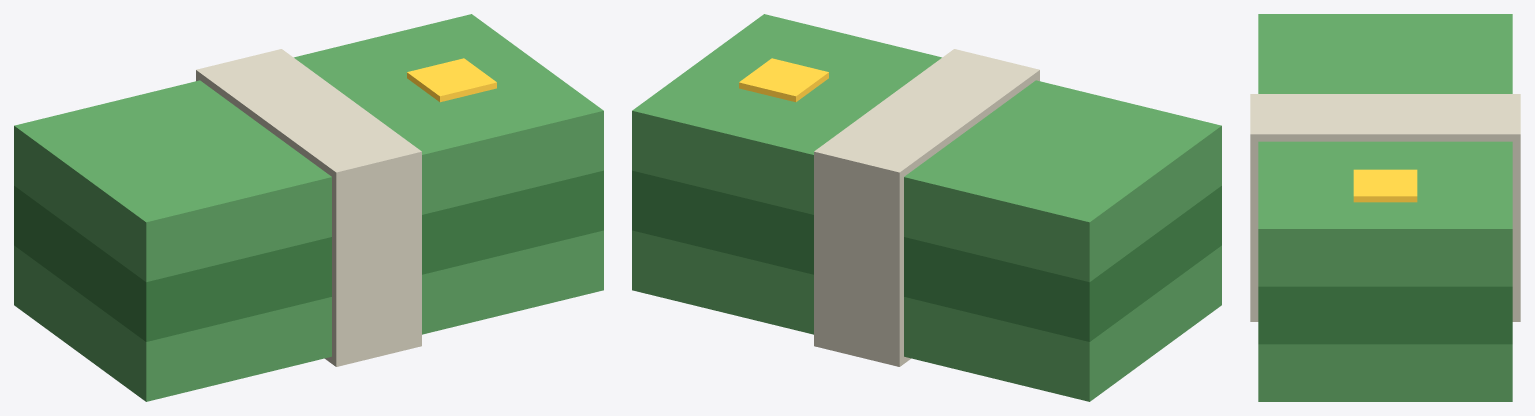
The model's file is cash_bundle.glb.
3 renders of one model, left to right at view 1: azimuth 30°, elevation 25°; view 2: azimuth 150°, elevation 25°; view 3: azimuth 270°, elevation 25°, orthographic. The views are drawn at different scales.
Visible parts, largest first — view 1: cash_bills, cash_band, cash_bills_edge, cash_gold; view 2: cash_bills, cash_band, cash_bills_edge, cash_gold; view 3: cash_bills, cash_band, cash_bills_edge, cash_gold.
Part boxes in pixels (x1,y1,x2,y2): cash_bills: (14, 14, 603, 401); cash_band: (196, 49, 421, 366); cash_bills_edge: (14, 170, 603, 341); cash_gold: (407, 58, 496, 102); cash_bills: (632, 14, 1221, 401); cash_band: (814, 49, 1039, 366); cash_bills_edge: (632, 170, 1221, 341); cash_gold: (739, 58, 828, 102); cash_bills: (1258, 14, 1512, 401); cash_band: (1250, 94, 1520, 321); cash_bills_edge: (1258, 286, 1512, 344); cash_gold: (1353, 169, 1417, 202).
Bounding box in the file's own units: 0.16 × 0.065 × 0.085.
